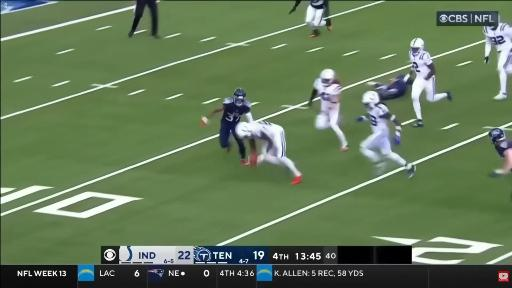Helmet: (362, 91, 379, 108), (235, 121, 252, 138), (488, 128, 505, 143), (320, 69, 335, 85), (411, 38, 424, 55), (234, 88, 246, 106)
Jersey: (314, 78, 342, 111), (376, 75, 412, 97), (483, 23, 511, 51), (222, 98, 251, 124), (251, 121, 283, 141), (368, 103, 389, 133), (409, 51, 432, 78), (495, 141, 511, 157), (310, 0, 325, 9)
Player: (356, 91, 415, 178), (236, 121, 302, 184), (201, 88, 253, 165), (409, 38, 451, 126), (308, 69, 348, 151), (483, 23, 511, 99), (367, 70, 413, 100), (488, 128, 511, 177), (306, 0, 331, 37)
